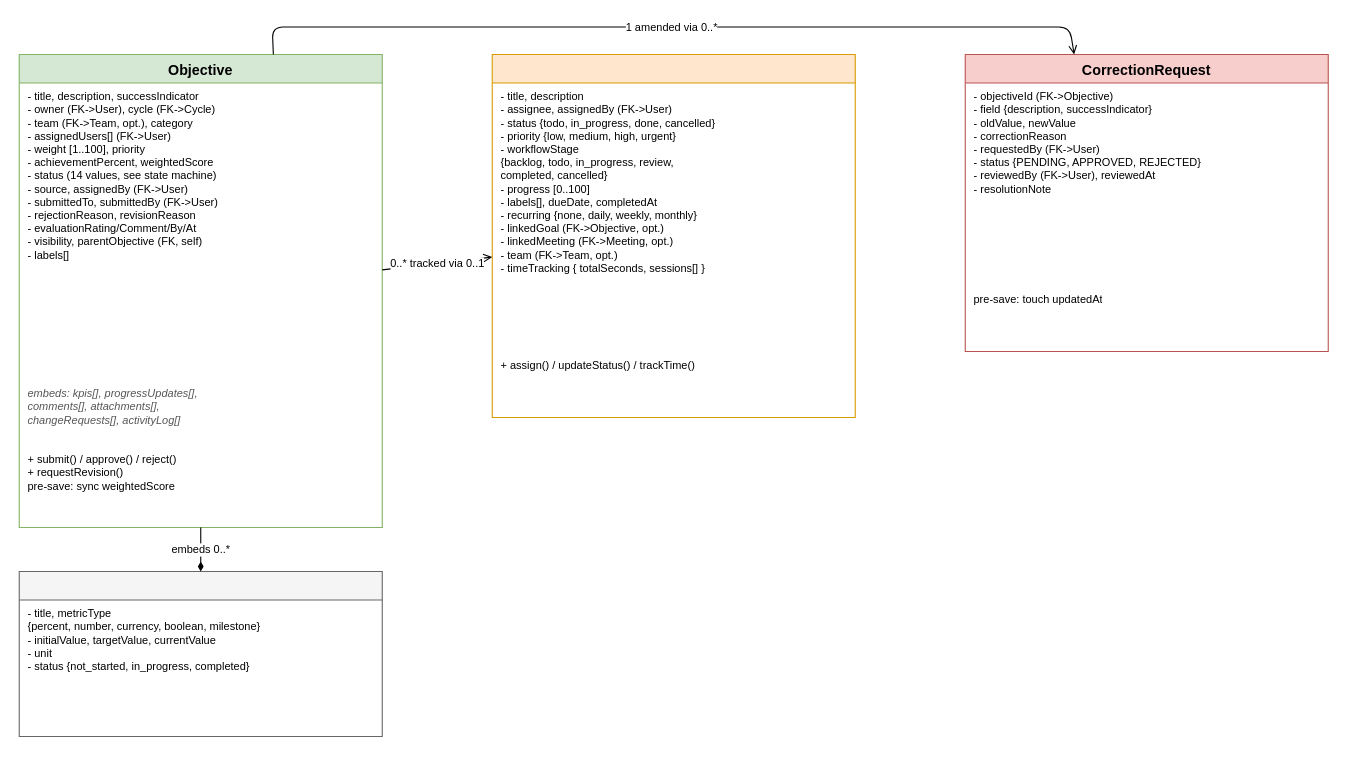
Some shapes in this 1348 by 759 pixel diagram are drawn without their labels. The shapes that lost their labels are listed below. From the top down, each one's box as (x1, y1, x2, y2) in pixels, then its label:
(491, 53, 855, 417): Task
(18, 570, 382, 736): KPI (embedded)
